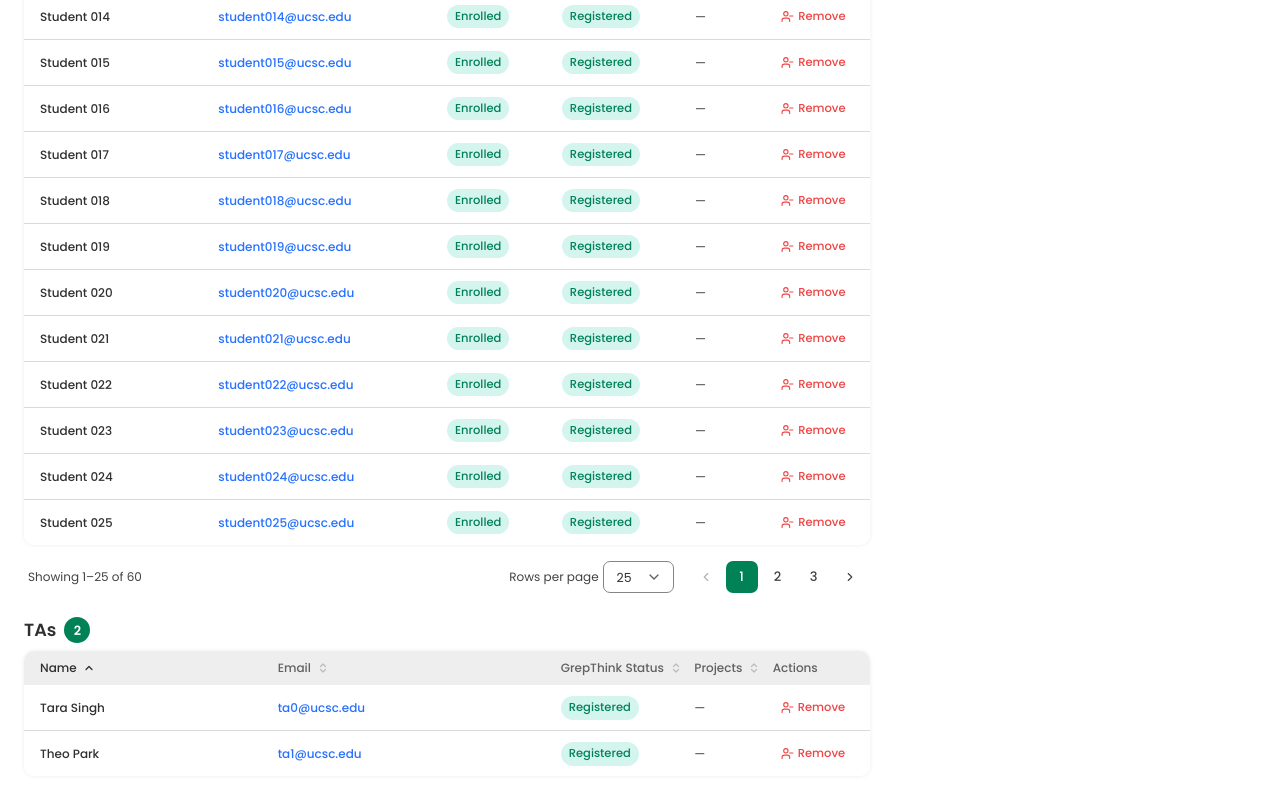
it: Roster — paging the student list › goes back to page 1 on a new search, and searches the whole list before paging
The width and height of the screenshot is (1280, 800).
(page scrolled)
Step 1. Click the button named "Page 3" → click(814, 577), box [798, 561, 830, 593]
(page scrolled)
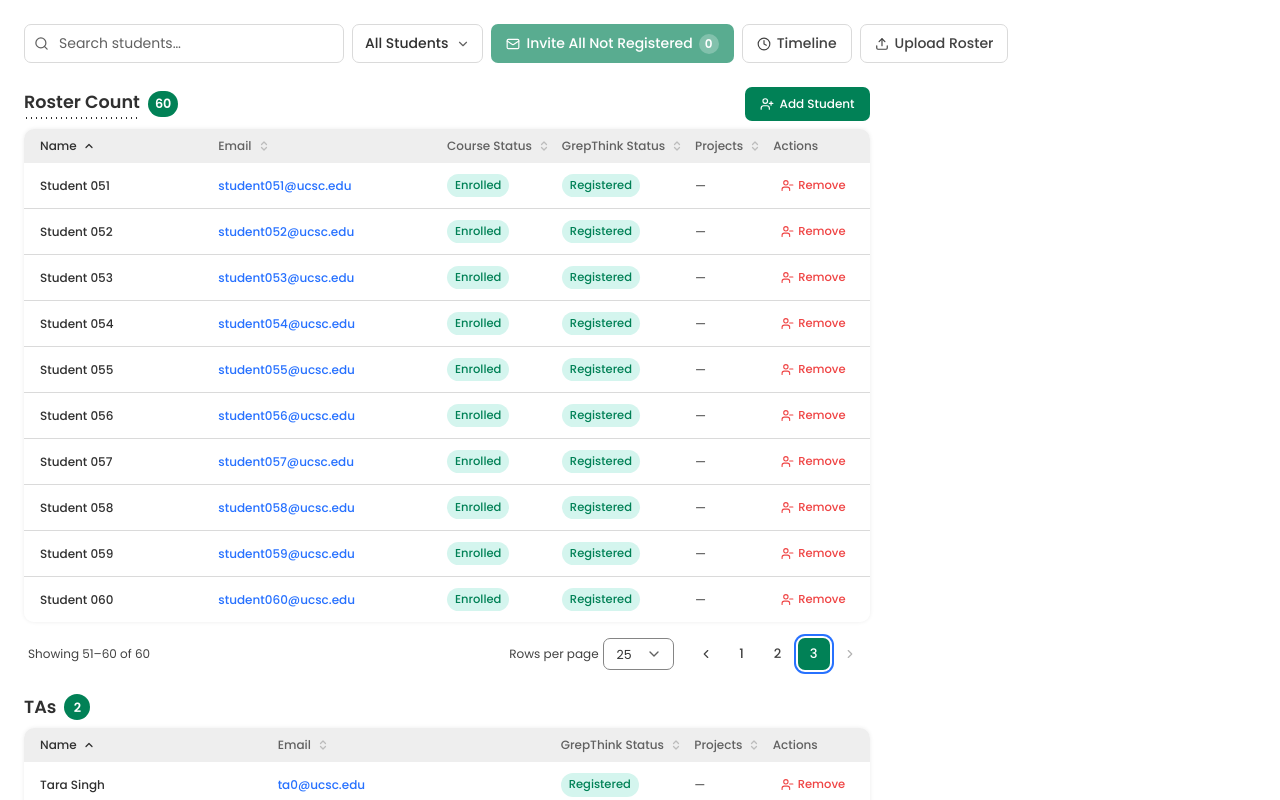
// "05" matches Student 005 and Students 050 to 059, two of them on page 1 and the rest on page 2.
Step 2. Type "05" into the field named "Search students by name or email" → (184, 44), box [24, 24, 344, 63]
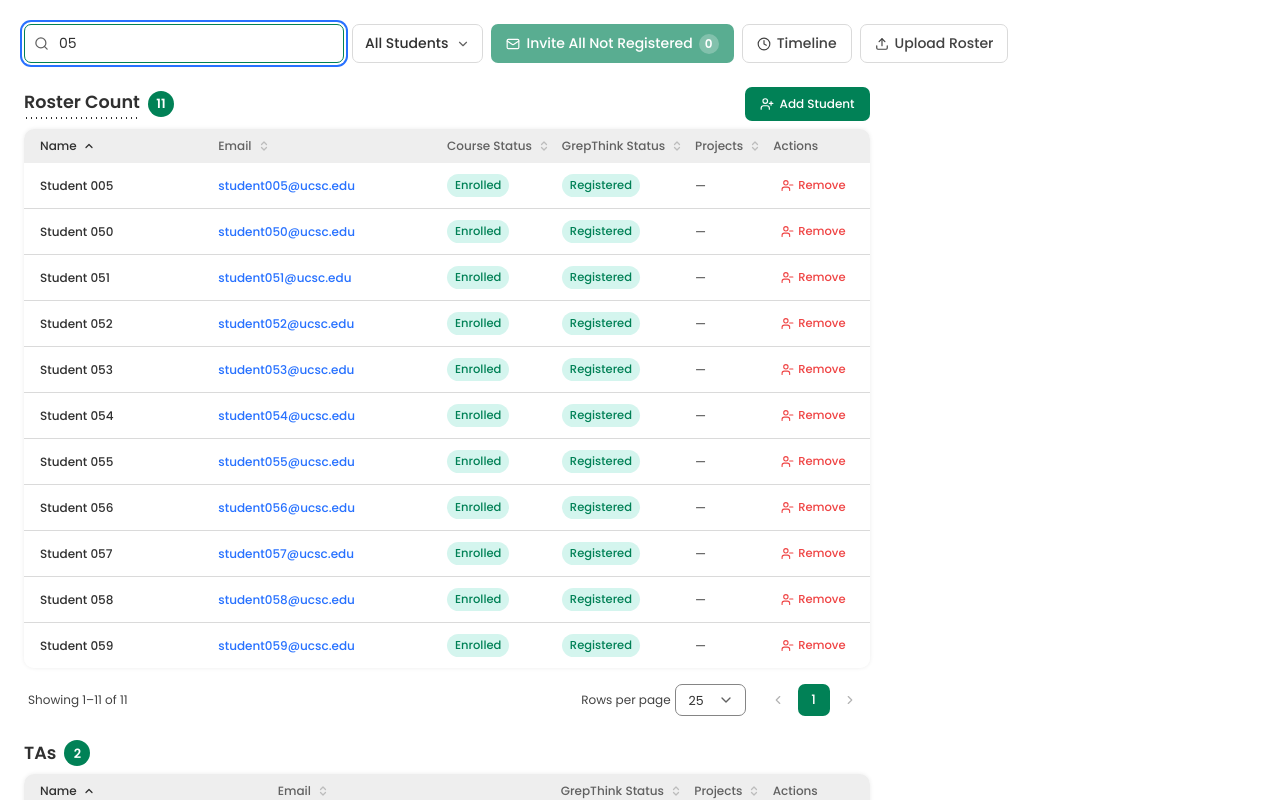
Now the text "Showing 1–11 of 11" is shown, box [28, 691, 128, 709]
Now the text "Student 005" is shown, box [24, 163, 212, 208]
